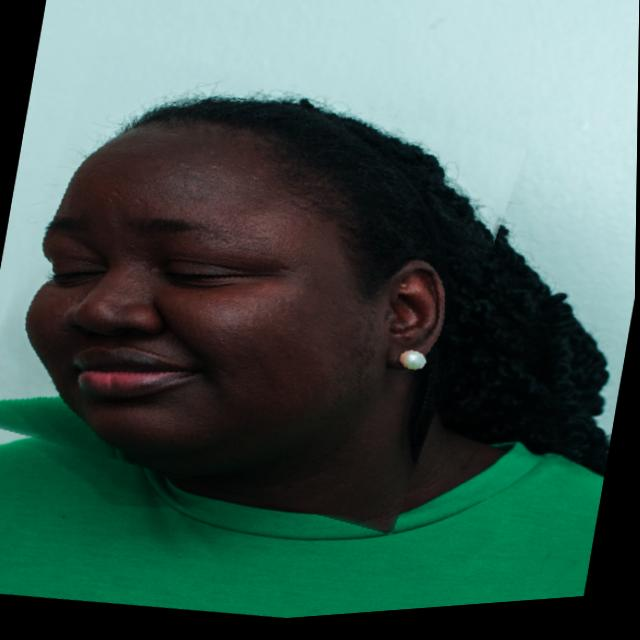happy: (0, 21, 522, 555)
